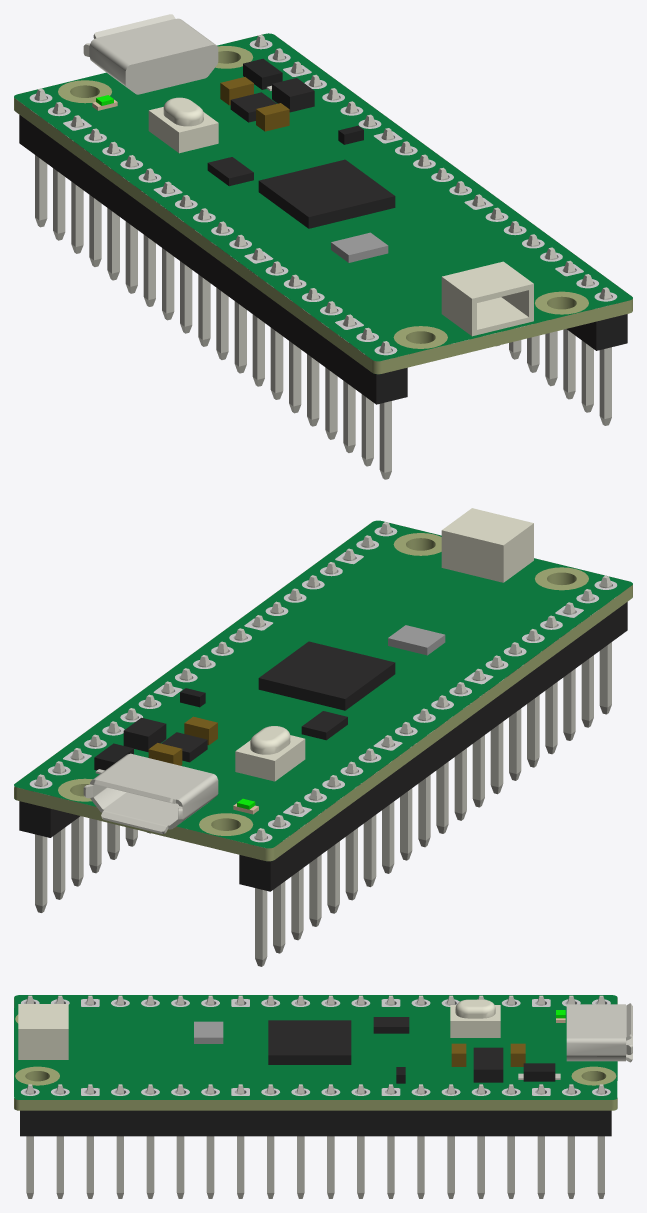
Rendered from Module__RaspberryPi_Pico_Common_THT.glb.
3 views of the same model, one above another, from view 1: azimuth 30°, elevation 25°; view 2: azimuth 150°, elevation 25°; view 3: azimuth 270°, elevation 25° (orthographic). The views are drawn at different scales.
Visible parts, largest first — view 1: RaspberryPi_Pico_H_Module_KiCad; view 2: RaspberryPi_Pico_H_Module_KiCad; view 3: RaspberryPi_Pico_H_Module_KiCad.
Part boxes in pixels (left/top/right/bottom): RaspberryPi_Pico_H_Module_KiCad: left=14, top=14, right=632, bottom=479; RaspberryPi_Pico_H_Module_KiCad: left=14, top=508, right=632, bottom=966; RaspberryPi_Pico_H_Module_KiCad: left=14, top=995, right=632, bottom=1198.
Bounding box in the file's own units: 0.021 × 0.0128 × 0.0523.
